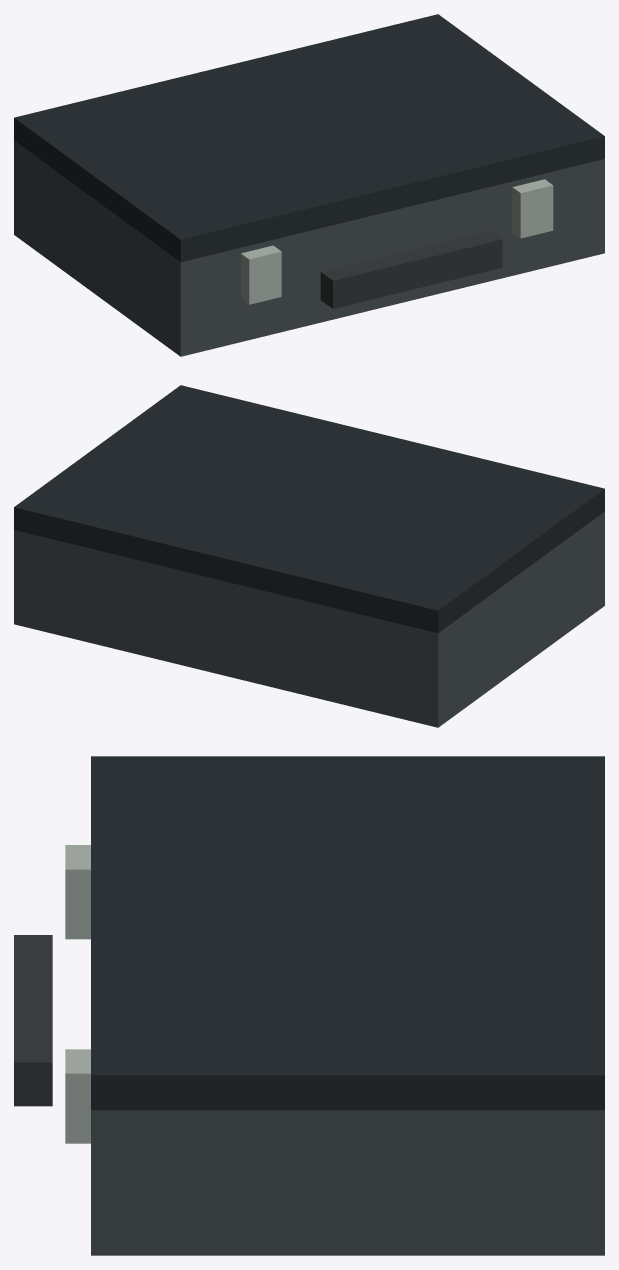
Rendered from blender_ectoplasm_sampler_2.glb.
3 renders of one model, top to bottom at view 1: azimuth 30°, elevation 25°; view 2: azimuth 150°, elevation 25°; view 3: azimuth 270°, elevation 25°, orthographic. The views are drawn at different scales.
Parts seen in each view (by area): view 1: blender_ectoplasm_sampler_2; view 2: blender_ectoplasm_sampler_2; view 3: blender_ectoplasm_sampler_2.
Part boxes in pixels (left/top/right/bottom): blender_ectoplasm_sampler_2: left=14, top=14, right=604, bottom=356; blender_ectoplasm_sampler_2: left=14, top=385, right=604, bottom=727; blender_ectoplasm_sampler_2: left=14, top=756, right=604, bottom=1255.
Size of the model in its own units: 0.235 by 0.062 by 0.184.
Materials: 1 (1 with a texture image).
